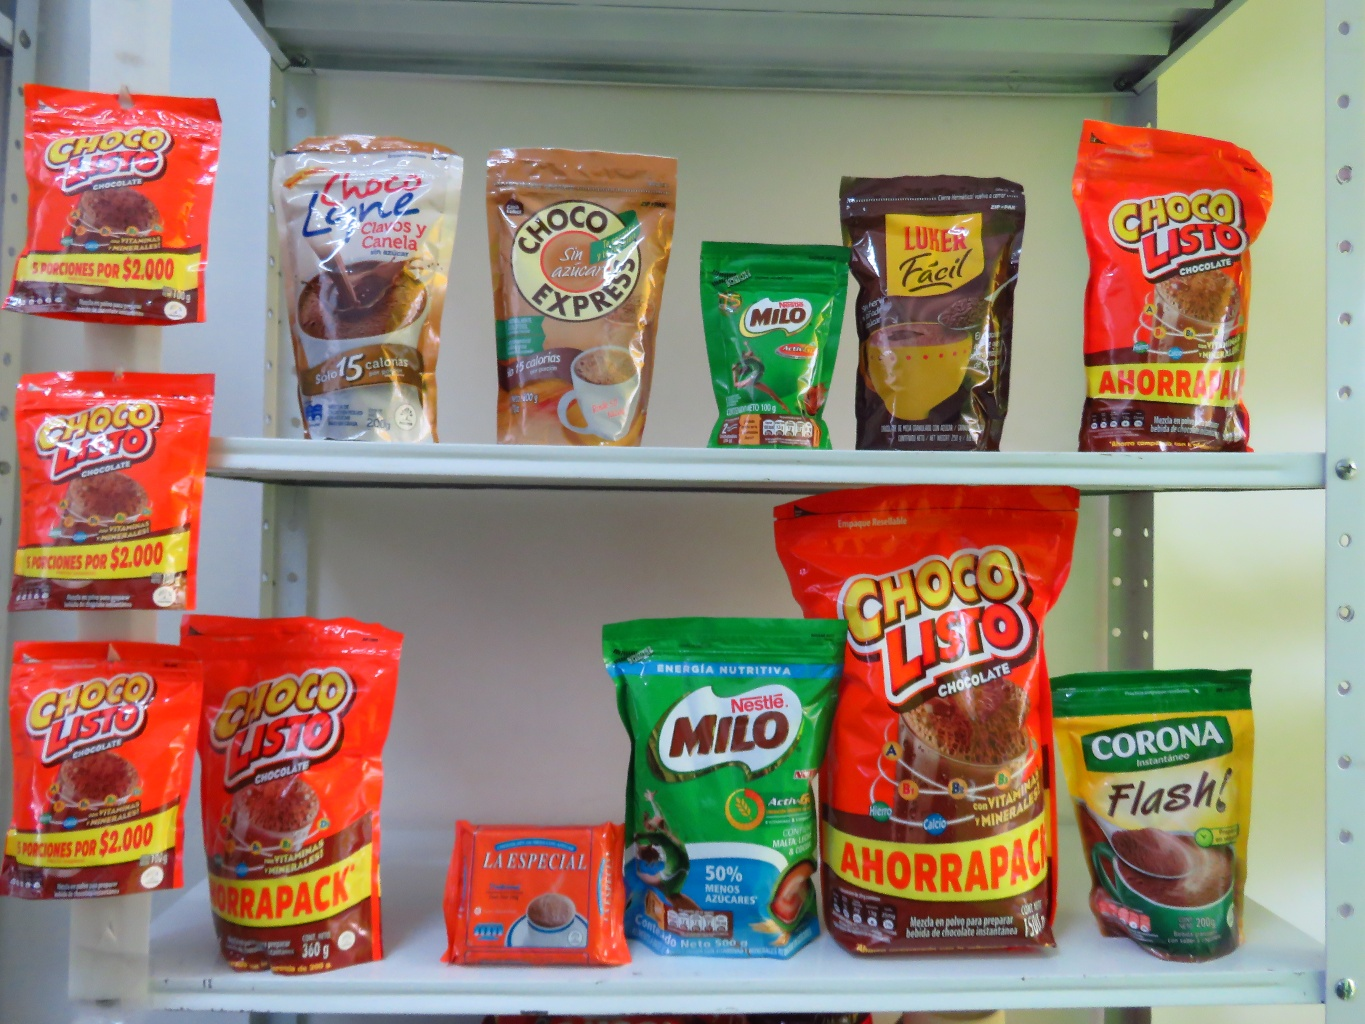COL0170103DYP1,500: (783, 483, 1087, 954)
COL0170103DYP10000: (17, 70, 223, 325)
COL0170103DYP36000: (183, 599, 408, 985)
COL0170103DYP40000: (1077, 120, 1279, 455)
COL0170203DYP10000: (677, 217, 847, 452)
COL0170205DYP50000: (603, 601, 834, 955)
